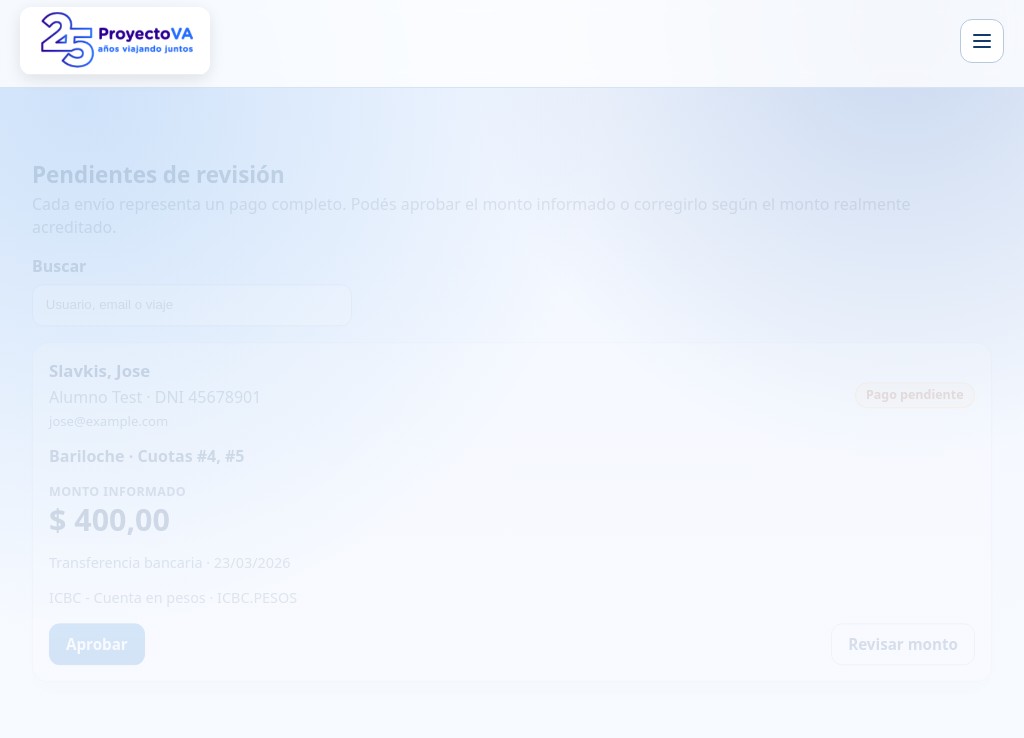
Test: PendingReviewPage › shows downward correction and neutral state without a request
Expected: the heading "Slavkis, Jose" is shown, [49,359,150,382]
Click the button "Revisar monto". click: {"x": 903, "y": 644}
box: [831,623,975,665]
(page scrolled)
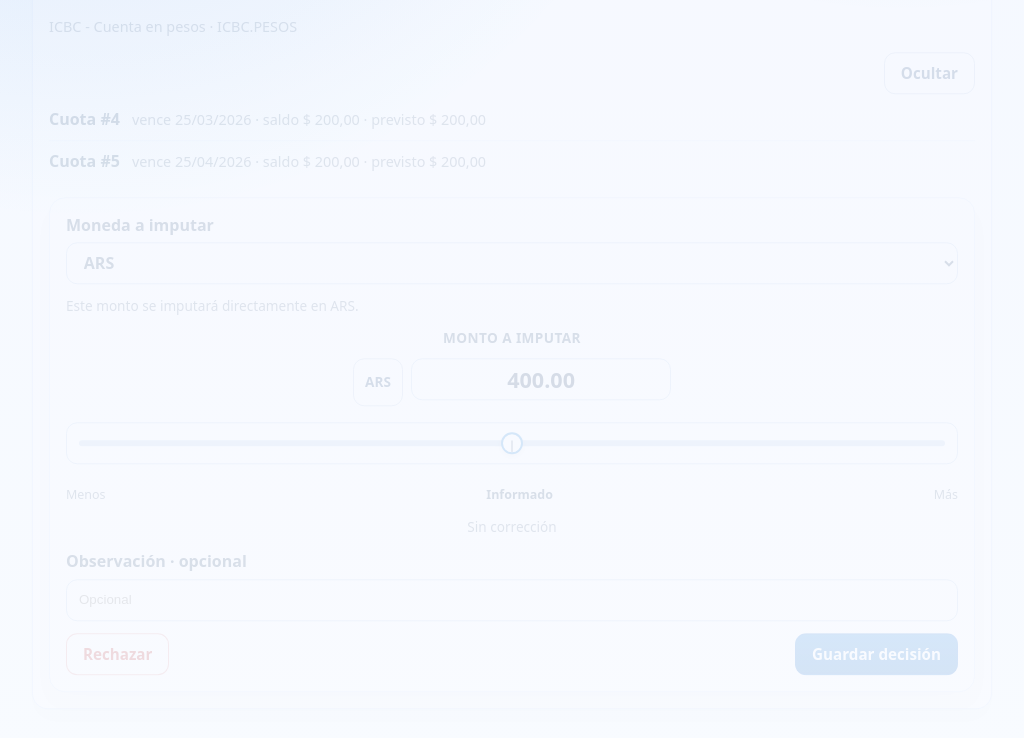
Replace the text in the field named "Monto a imputar" with "250". click: {"x": 541, "y": 379}
box: [411,358,671,400]
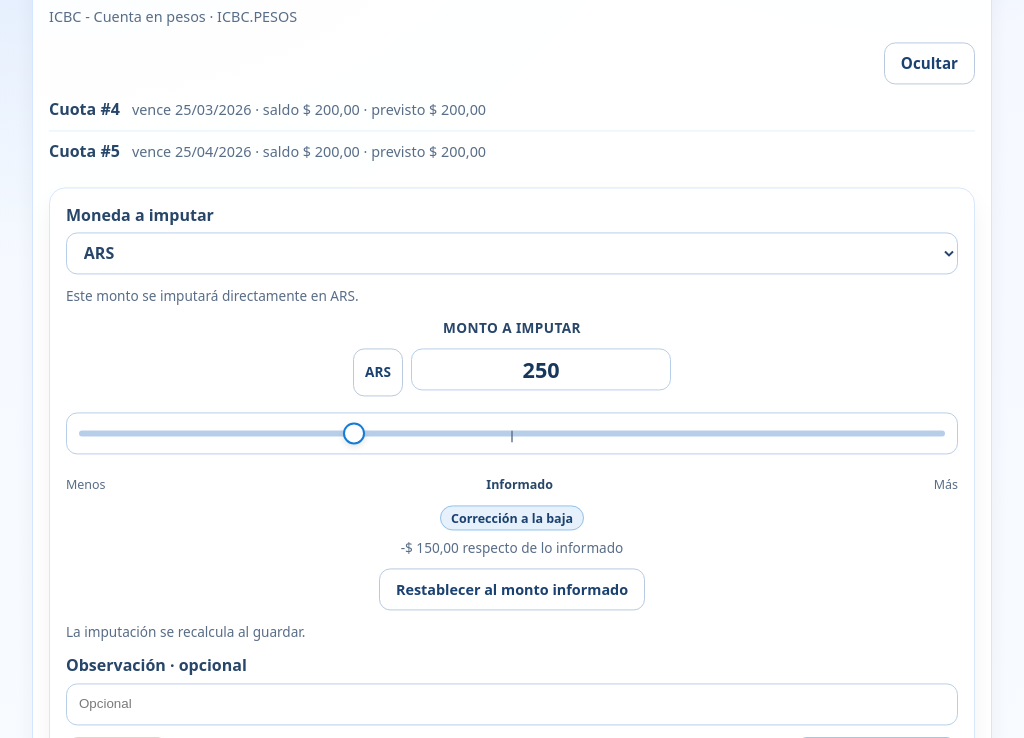
Now the text "Corrección a la baja" is shown, box [440,505,584,530]
Replace the text in the field named "Monto a imputar" with "400.00". click: {"x": 541, "y": 370}
box: [411,349,671,391]
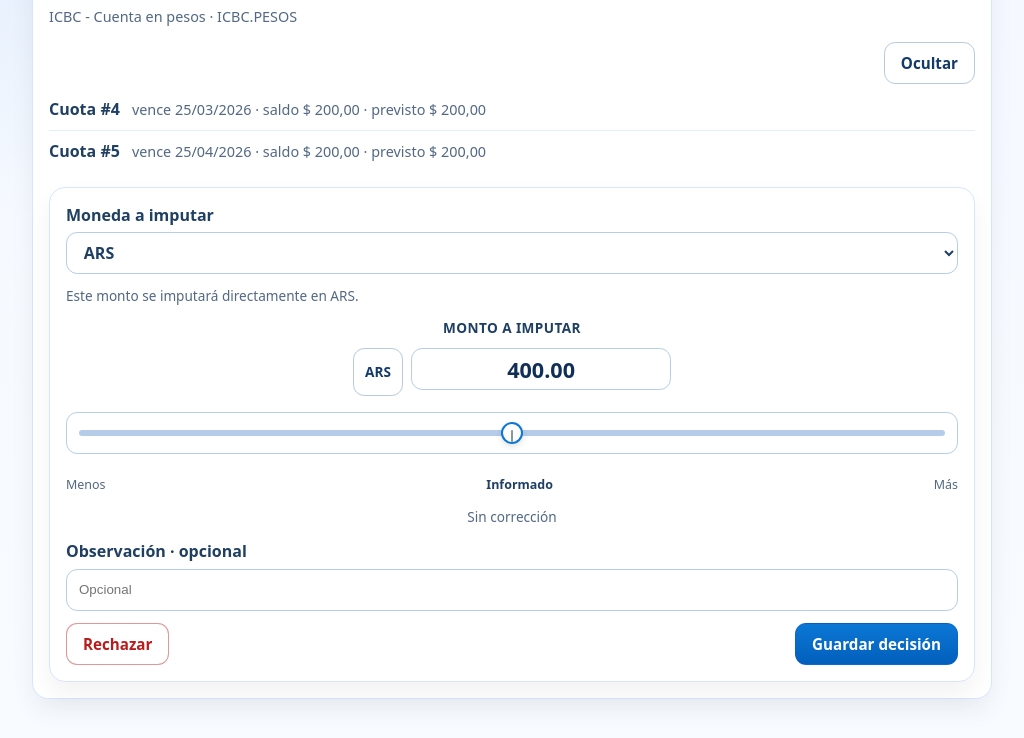
Now the button "Guardar decisión" is enabled, box [795,623,958,665]
Now the text "Sin corrección" is shown, box [467,507,557,526]
